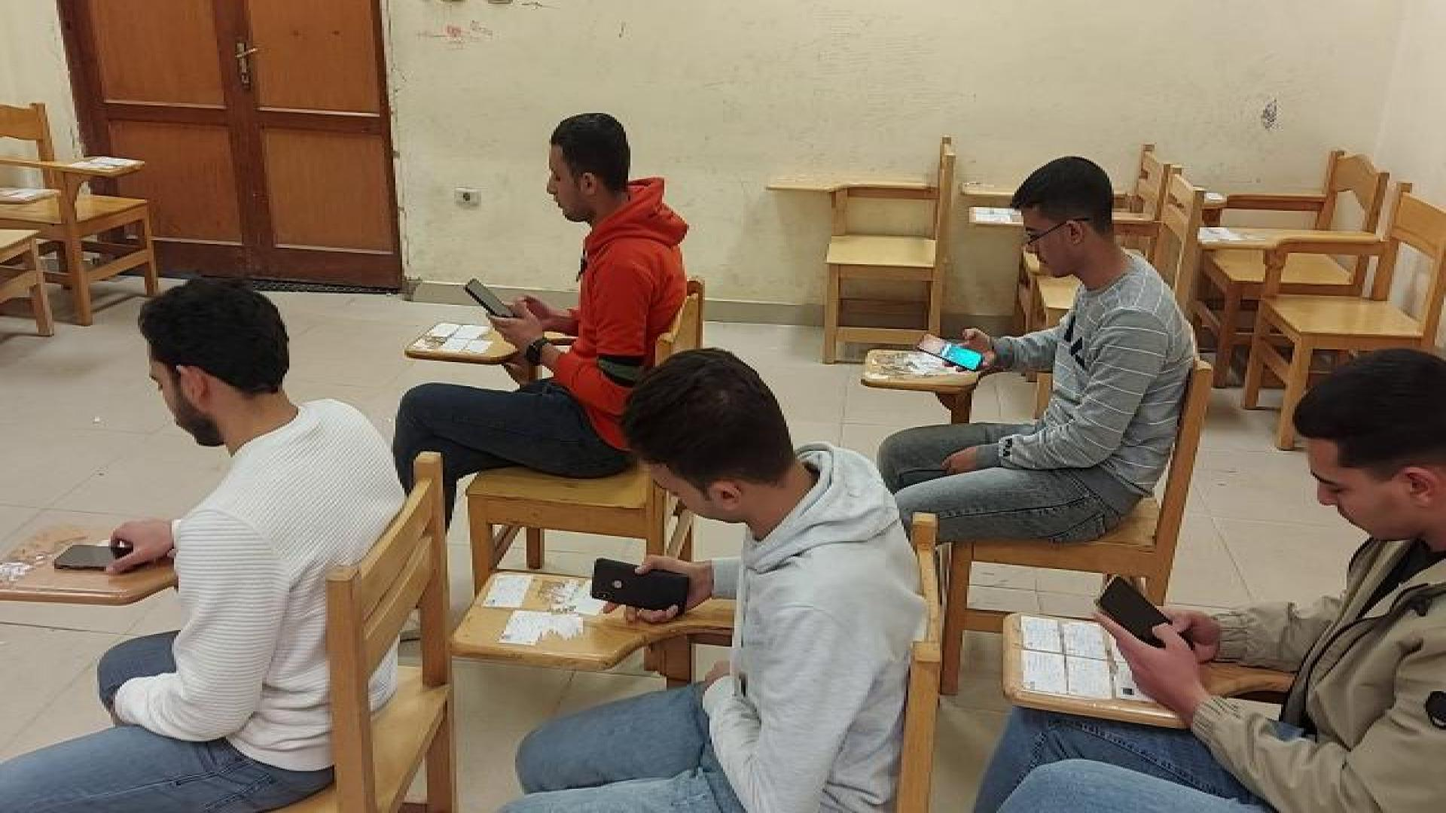phone: (1086, 567, 1183, 650), (589, 555, 697, 616), (460, 272, 525, 332), (46, 538, 148, 576), (914, 332, 986, 378)
